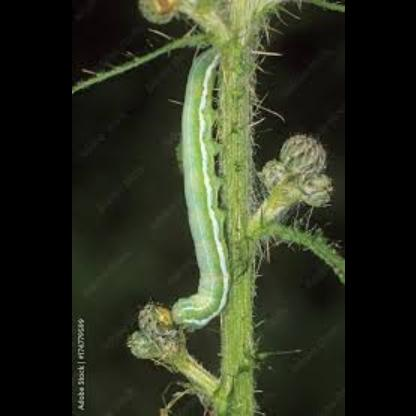oruga: (160, 34, 238, 334)
